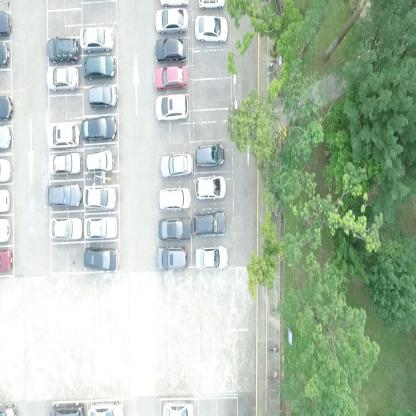car: (155, 90, 190, 123), (44, 179, 81, 208), (193, 15, 228, 44), (82, 182, 118, 210), (193, 207, 226, 236), (79, 26, 114, 53), (82, 53, 116, 80), (46, 37, 80, 64), (153, 9, 188, 35), (154, 64, 189, 90), (83, 246, 119, 271), (160, 151, 192, 179), (46, 64, 79, 91), (154, 38, 188, 64), (48, 217, 83, 242), (88, 80, 119, 108), (157, 244, 189, 271), (196, 244, 230, 269), (84, 214, 118, 239), (156, 216, 192, 239), (44, 123, 80, 146), (195, 175, 226, 201), (159, 184, 190, 210), (81, 116, 117, 138), (86, 150, 115, 174), (197, 143, 225, 166), (50, 150, 81, 170), (162, 398, 195, 416), (88, 400, 125, 416), (48, 400, 84, 415), (0, 95, 17, 121), (0, 9, 11, 41), (197, 0, 226, 12), (0, 187, 13, 213), (0, 246, 13, 272), (0, 156, 13, 181), (0, 216, 12, 243), (0, 38, 11, 67), (0, 126, 12, 149)
